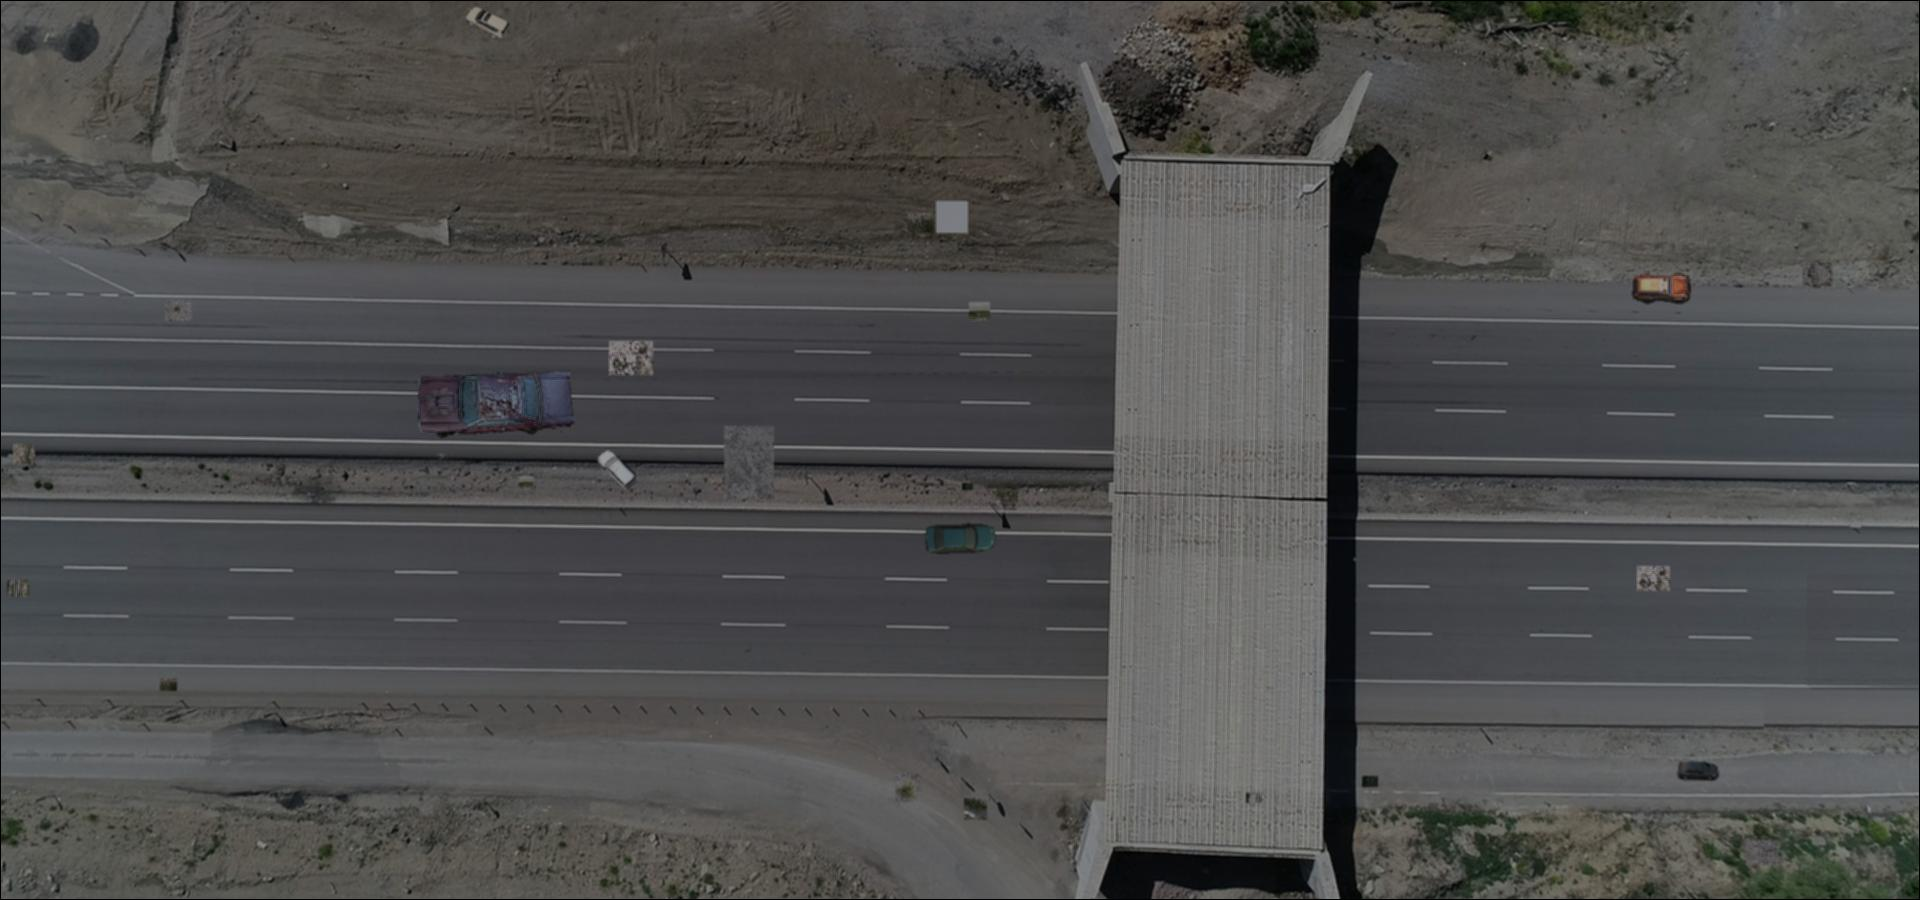arac: (414, 369, 574, 438), (924, 523, 996, 555), (1632, 273, 1693, 304), (596, 446, 638, 490), (464, 4, 509, 39), (1678, 760, 1720, 782)
